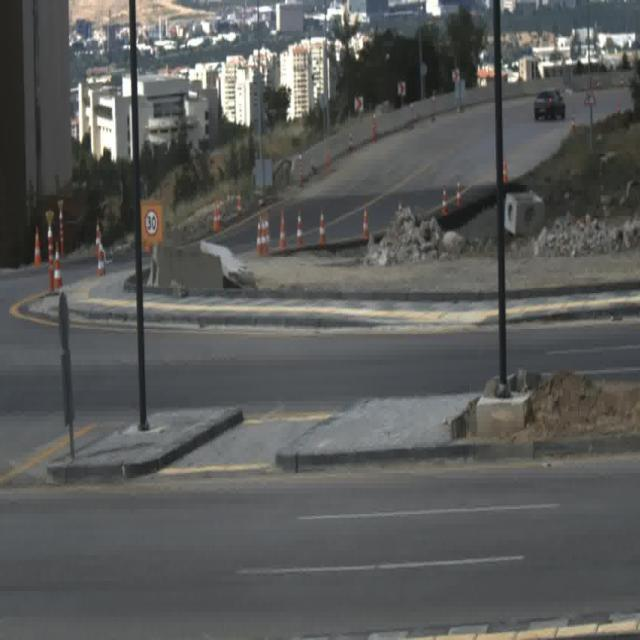Car: (534, 84, 567, 120)
